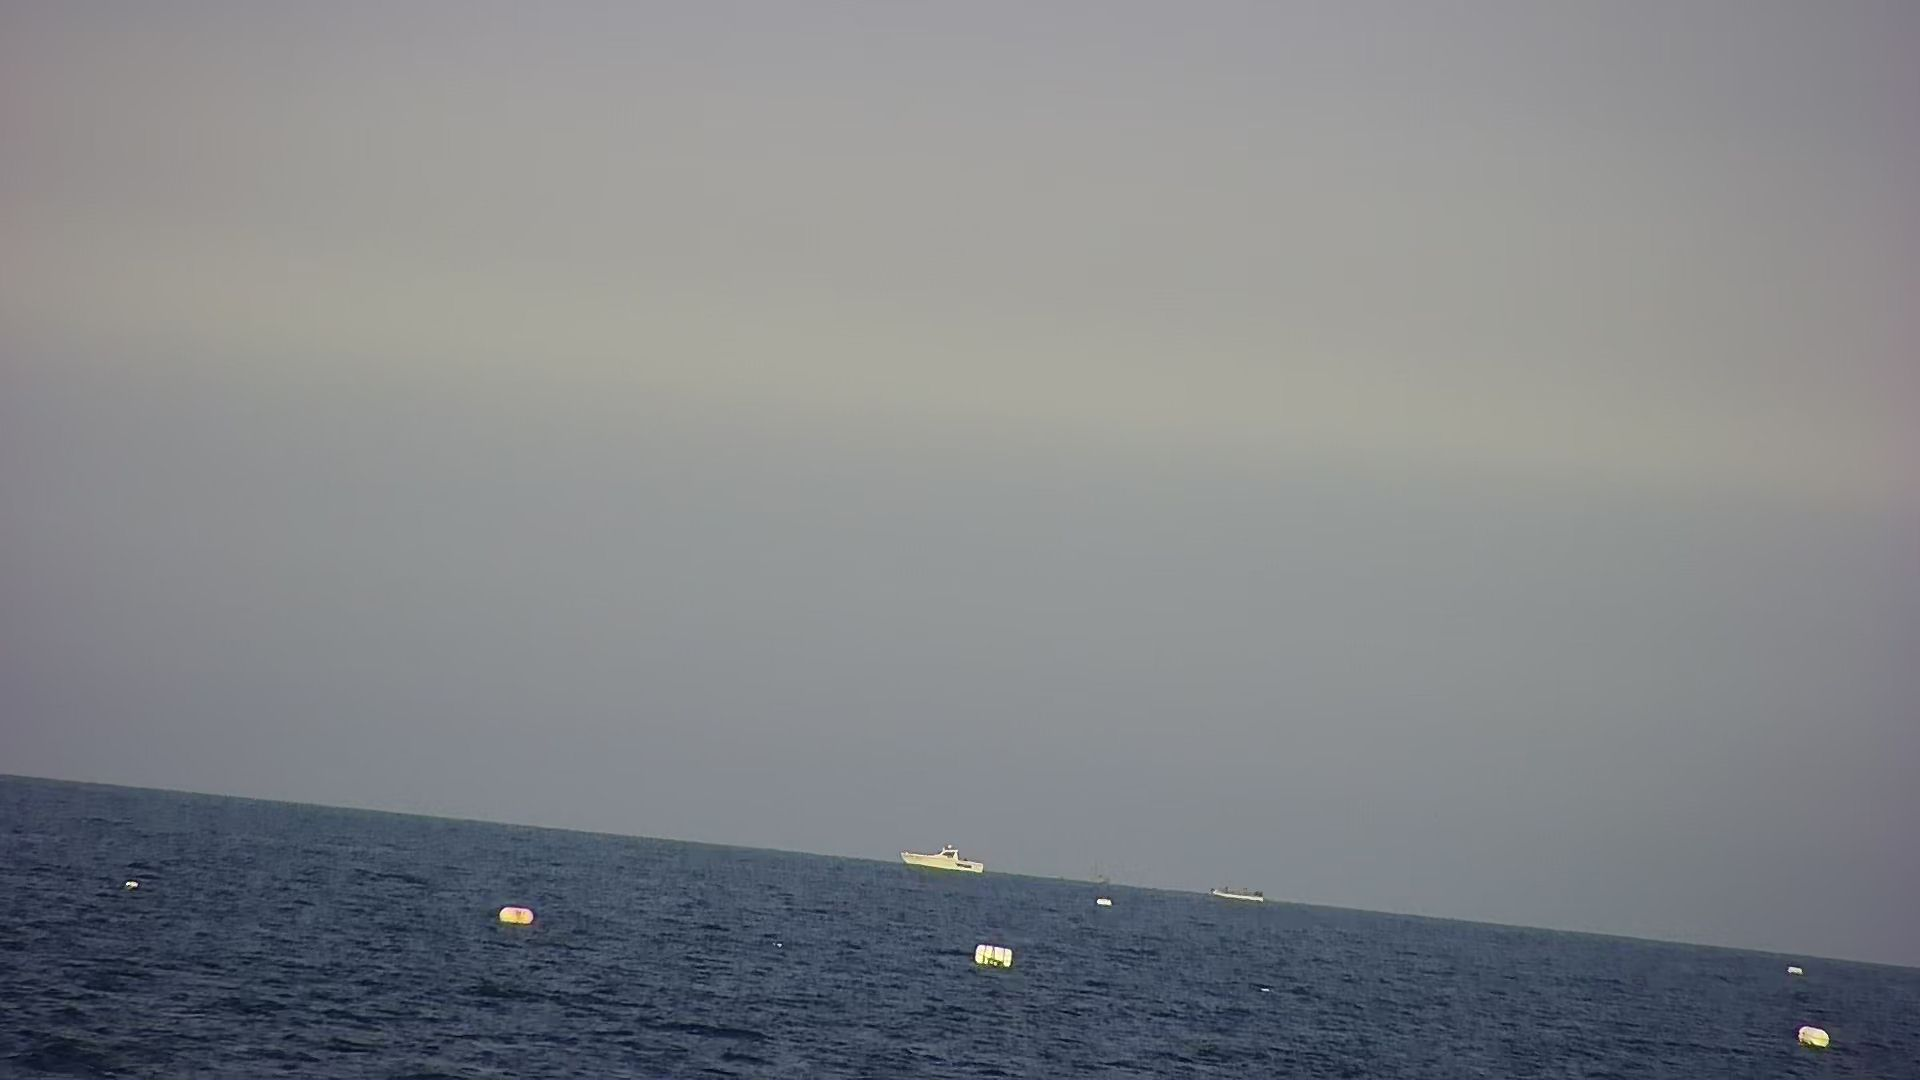rubbish: (1791, 1013, 1840, 1054), (971, 938, 1015, 975), (500, 895, 538, 926)
ship: (889, 835, 996, 880), (1209, 873, 1271, 915)
